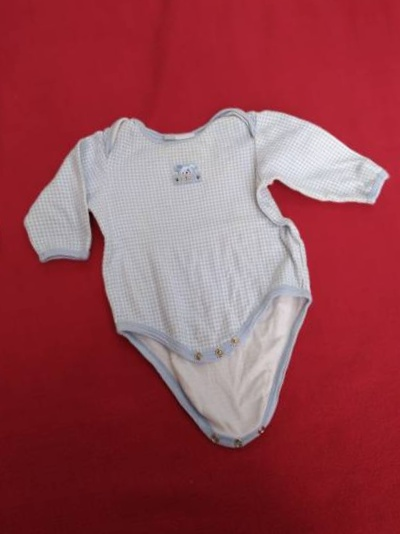Body: (13, 41, 400, 489), (0, 108, 31, 534), (381, 0, 400, 427)
